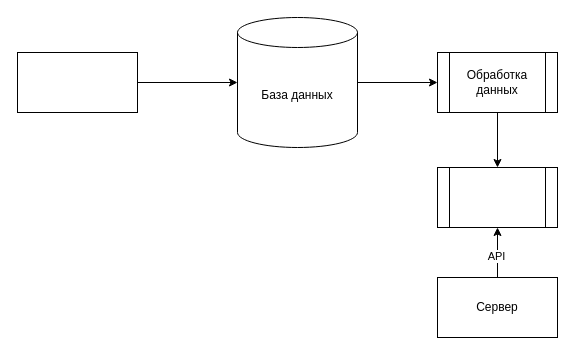
The diagram is 575 pixels wide and 355 high, and some of its shapes have lost their labels. Each missing label, with the box of its shape:
Данные из файла: (16, 52, 138, 112)
Модель: (436, 166, 558, 228)
